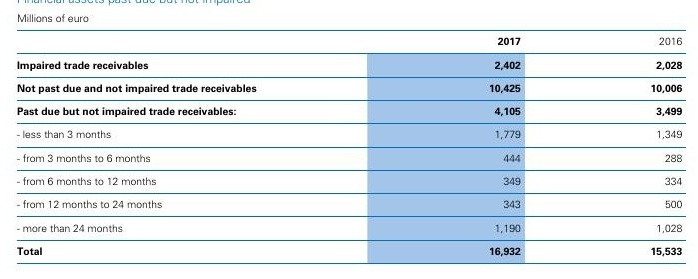table: (0, 0, 698, 279)
